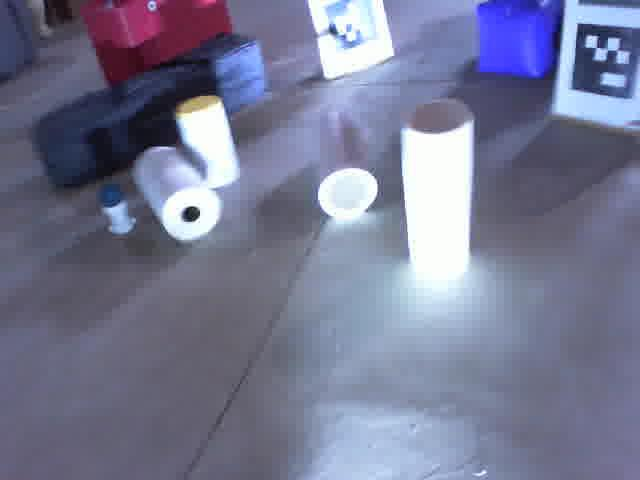coral: (398, 96, 476, 280), (311, 104, 381, 220)
